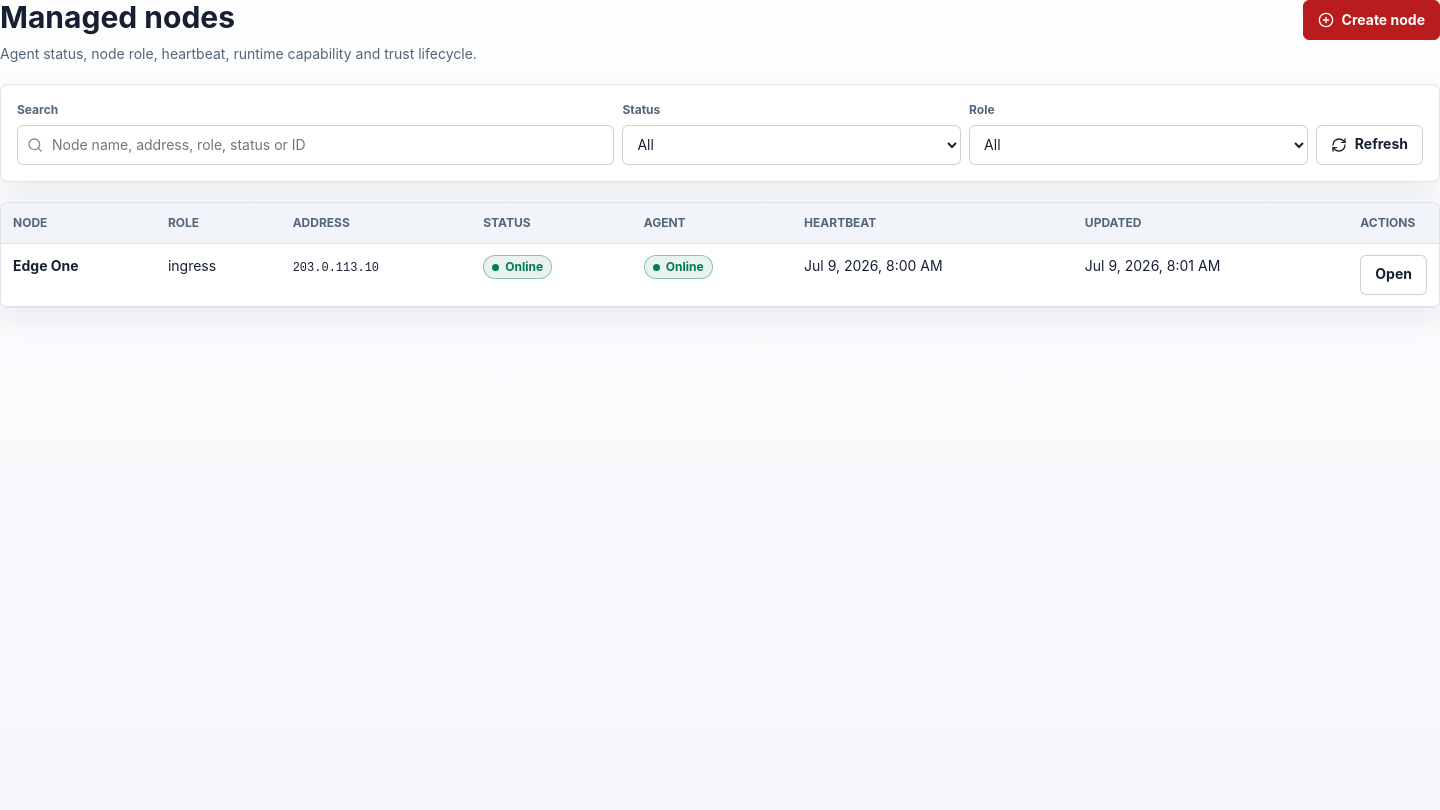
Scenario: NodesPage › handles node edit 404, 409 and 422 safely
Expected: the text "Edge One" is shown, [13,256,79,274]
Step 1. Click the button "Open" → (1394, 274), box [1360,254,1427,294]
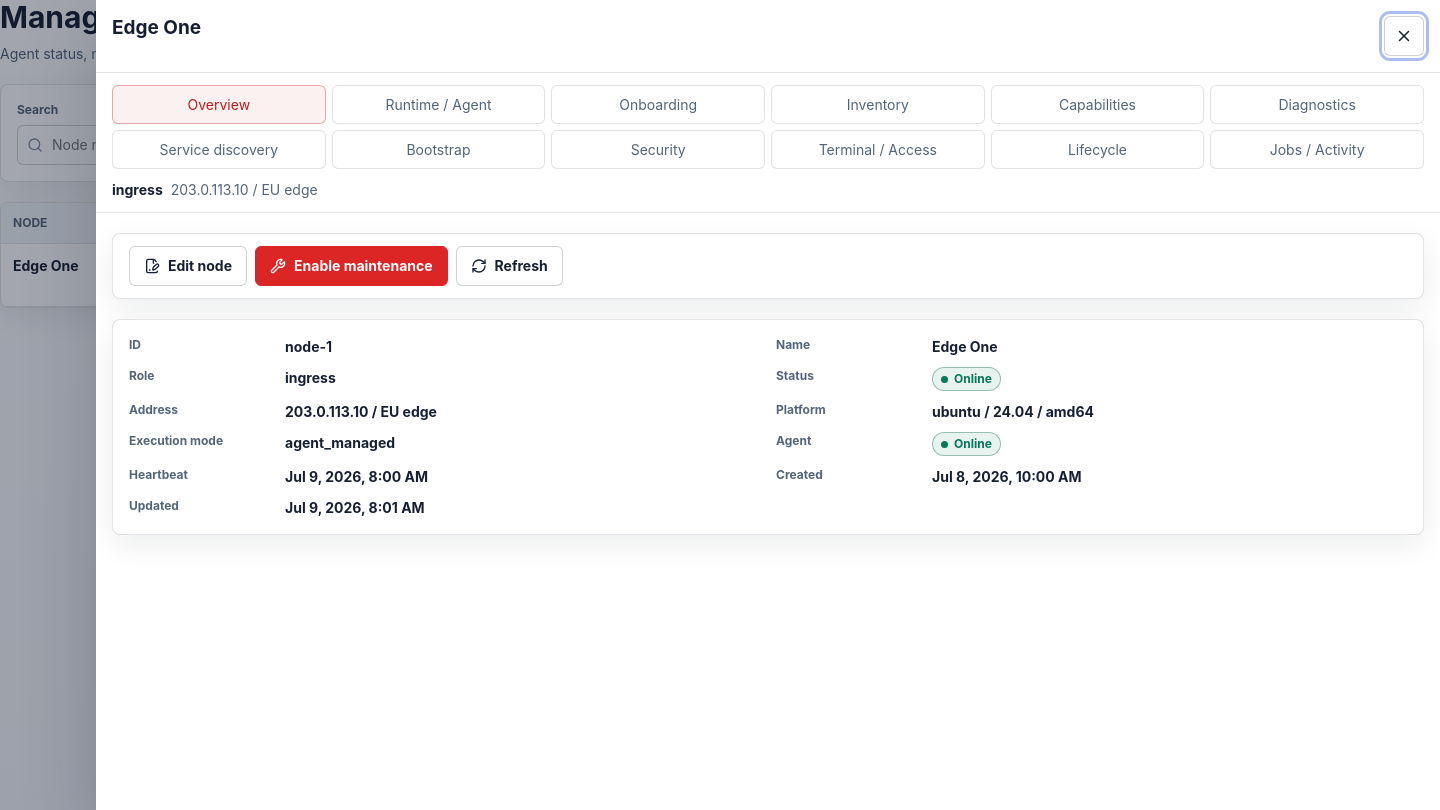
Expected: the heading "Edge One" is shown, [112,16,201,40]
Step 2. Click the button "Edit node" → (188, 266), box [129,246,247,286]
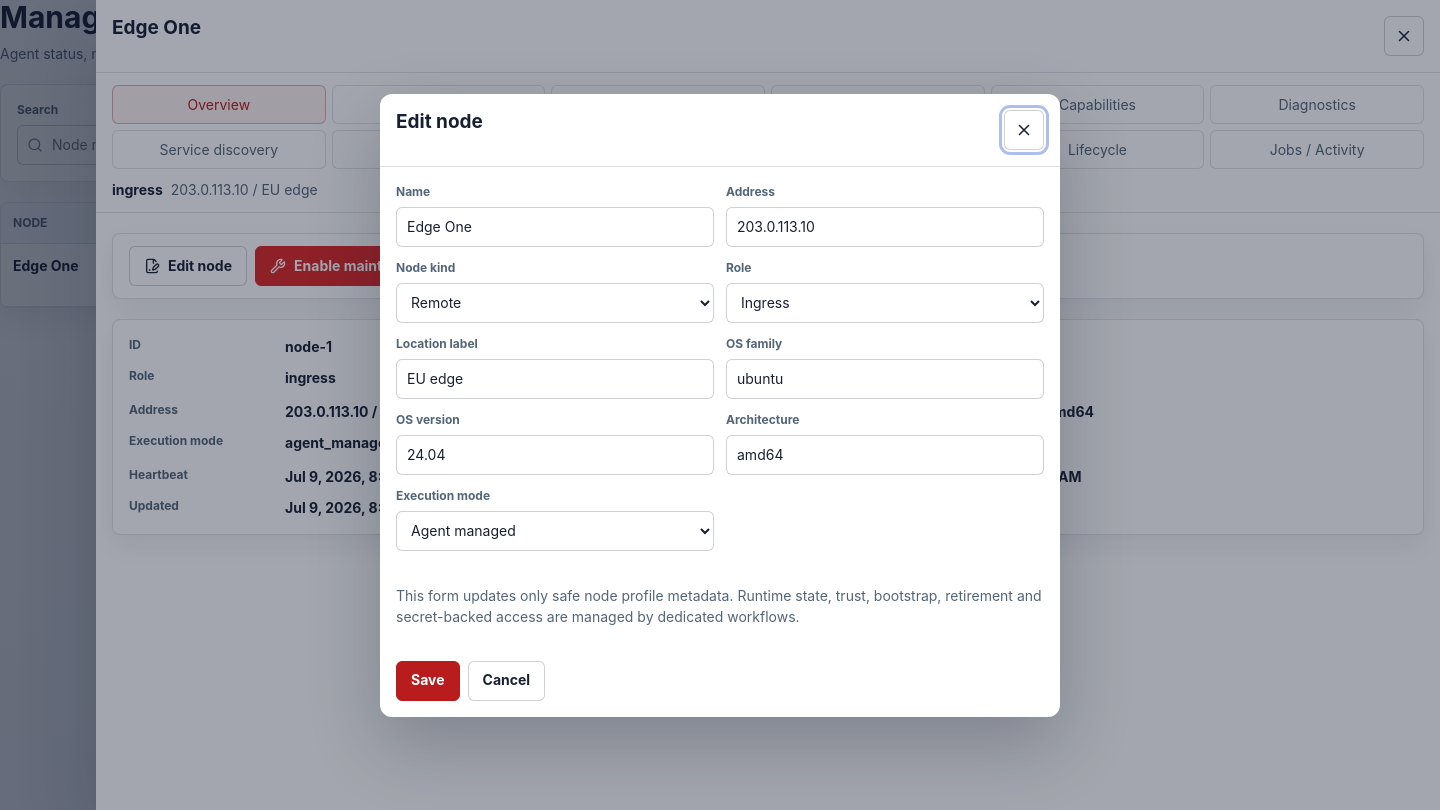
Step 3. Click the button "Save" → (428, 680), box [396,660,460,700]
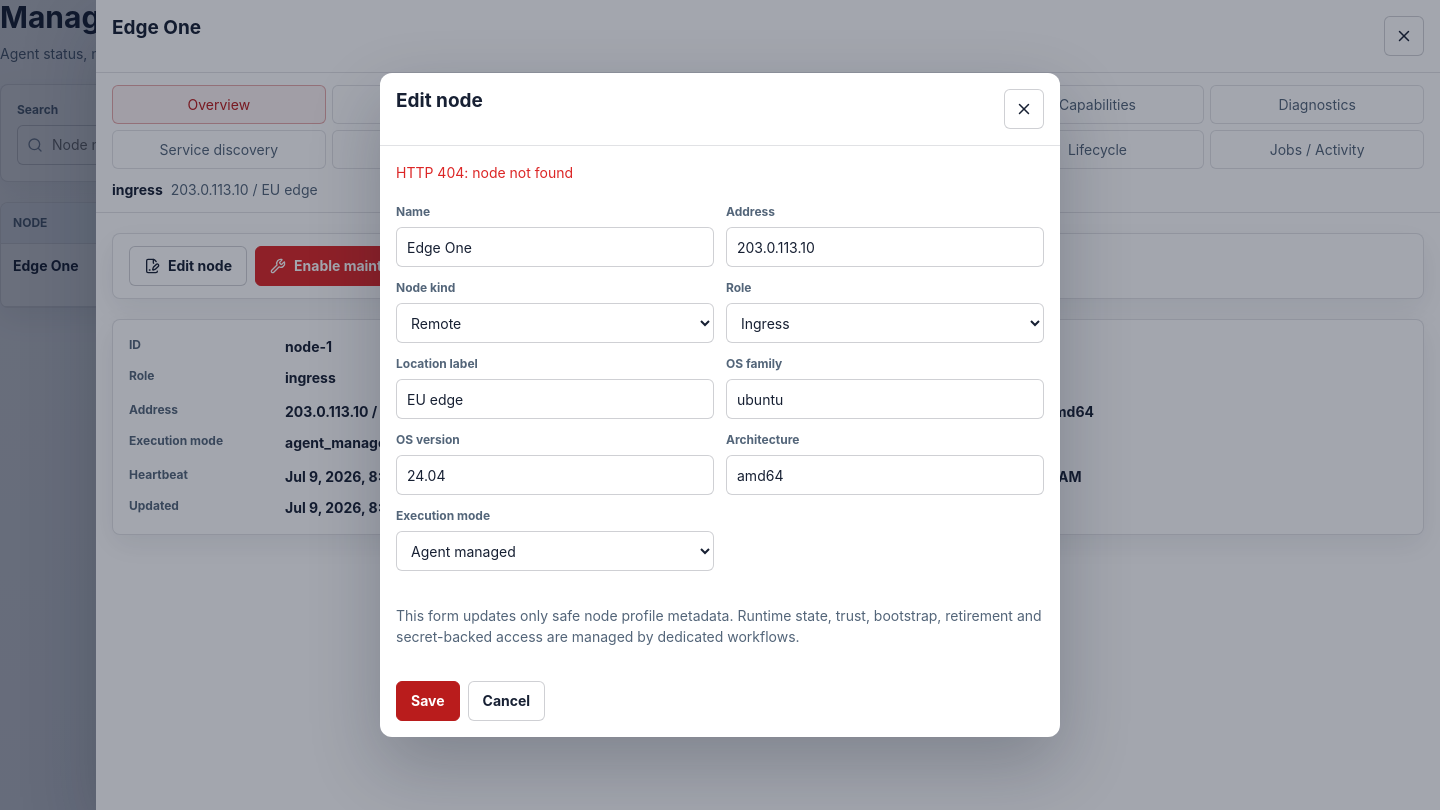
Expected: the text "HTTP 404: node not found" is shown, [396,164,573,181]
Step 4. Replace the text in the field labelled "Name" with "Edge Conflict" → (555, 247), box [396,227,714,267]
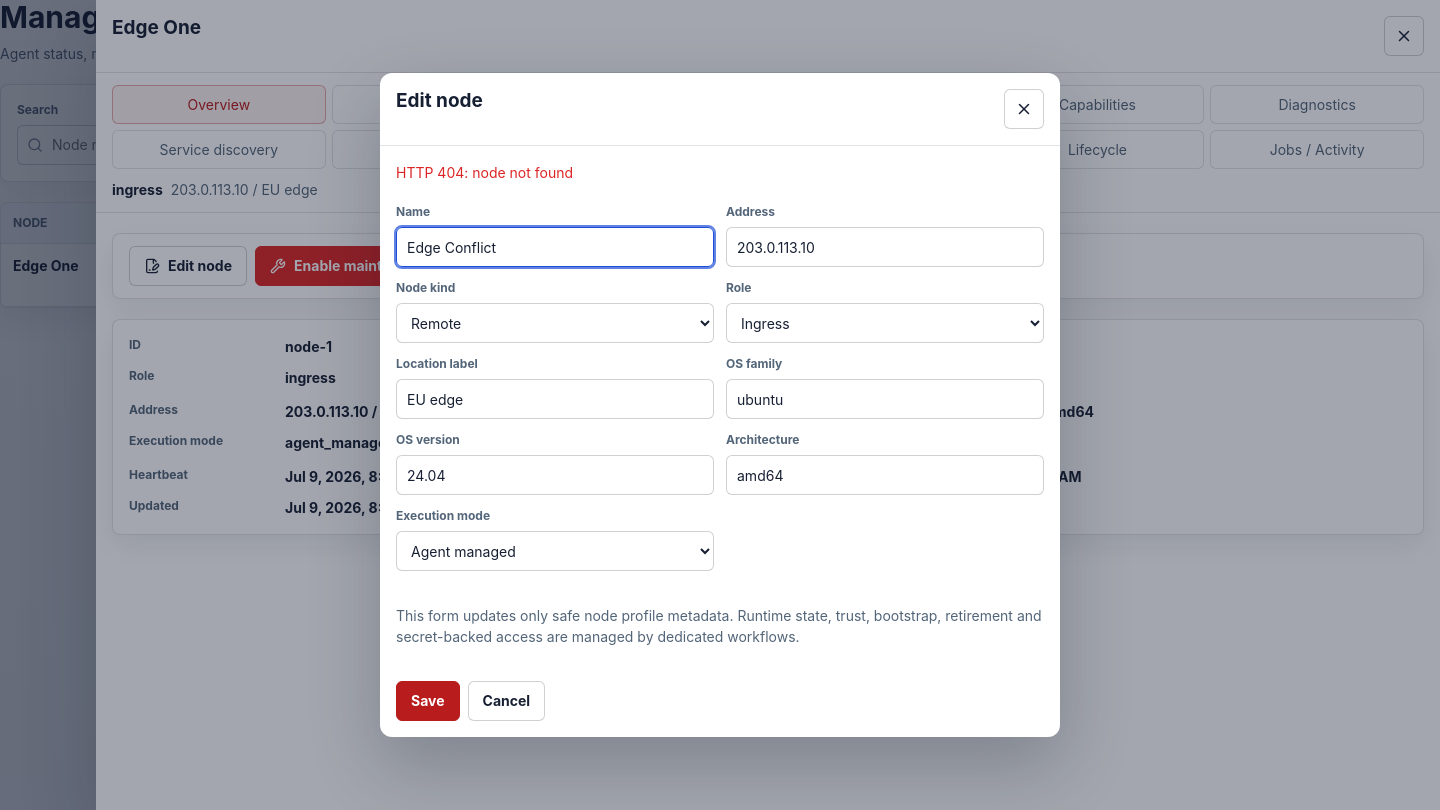
Step 5. Click the button "Save" → (428, 701), box [396,681,460,721]
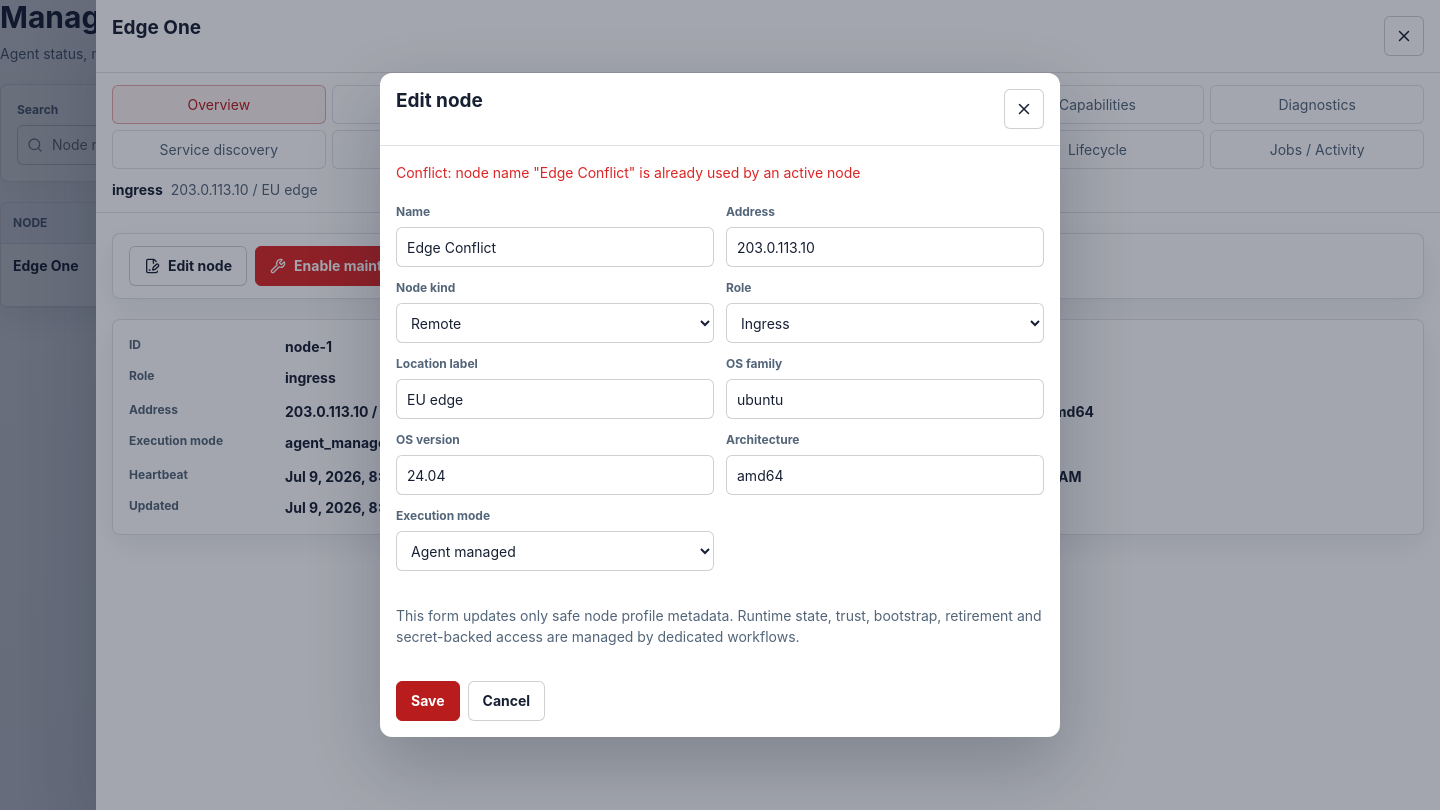
Expected: the text "Conflict: node name \"Edge Conflict\" is already used by an active node" is shown, [396,164,860,181]
Step 6. Click the button "Save" → (428, 701), box [396,681,460,721]
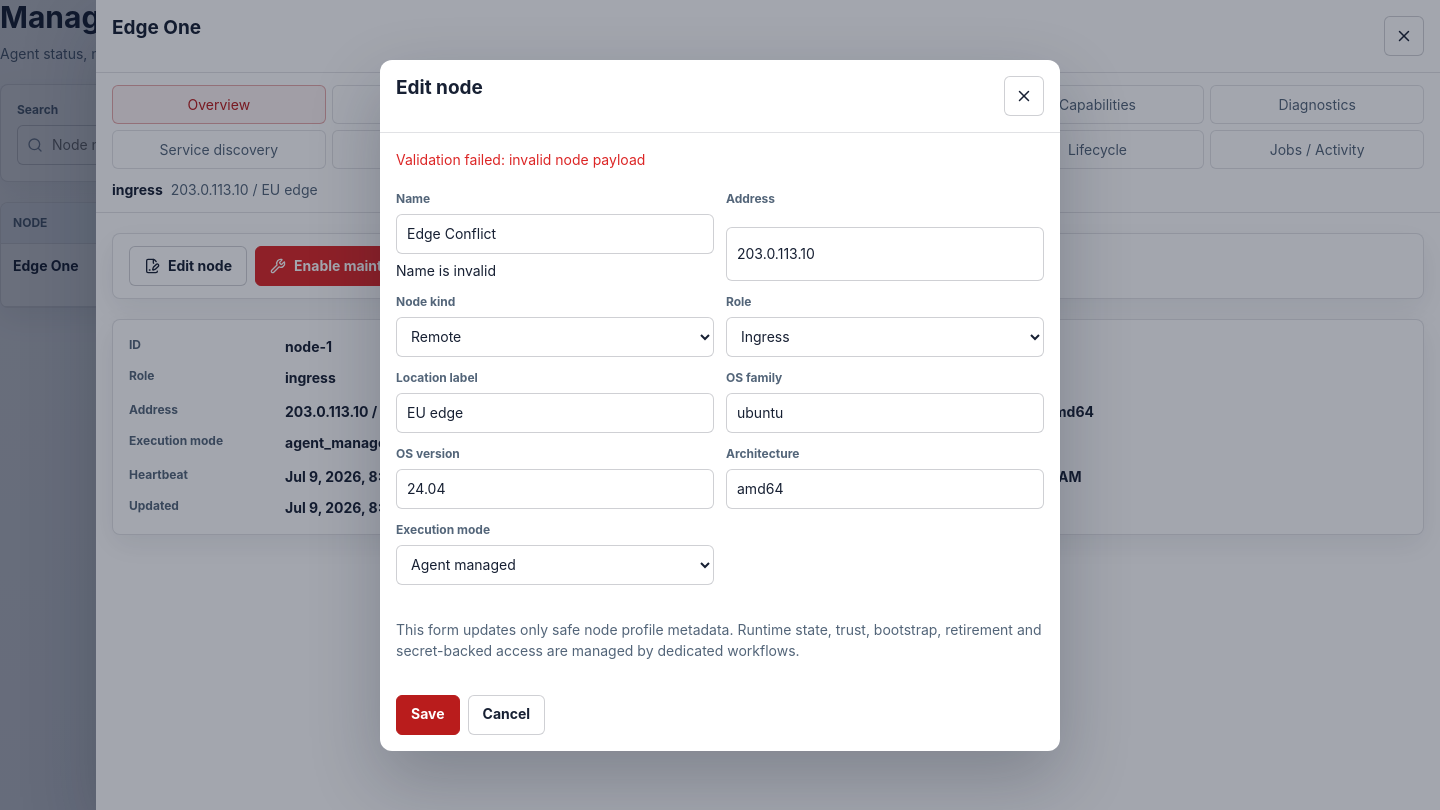
Expected: the text "Validation failed: invalid node payload" is shown, [396,150,645,168]
Expected: the text "Name is invalid" is shown, [396,262,496,278]
